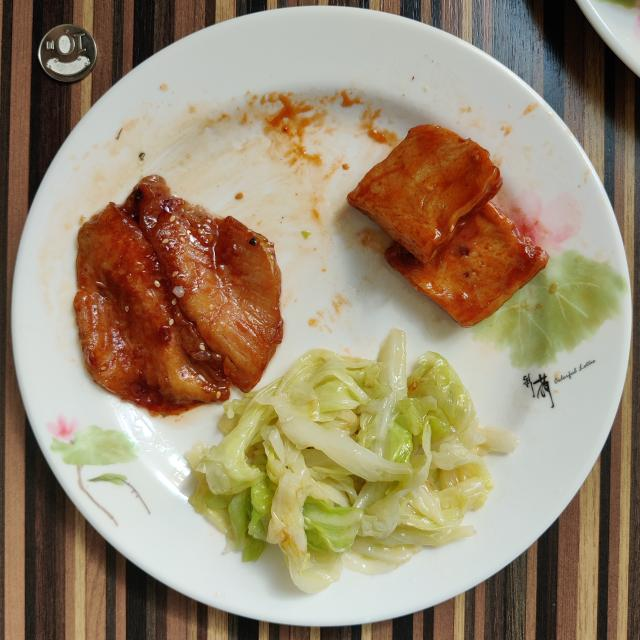Kabayaki sea bream fillet: (74, 175, 282, 414)
cabbage: (190, 329, 516, 592)
coin: (38, 25, 98, 81)
creamy tofu: (348, 125, 549, 328)
